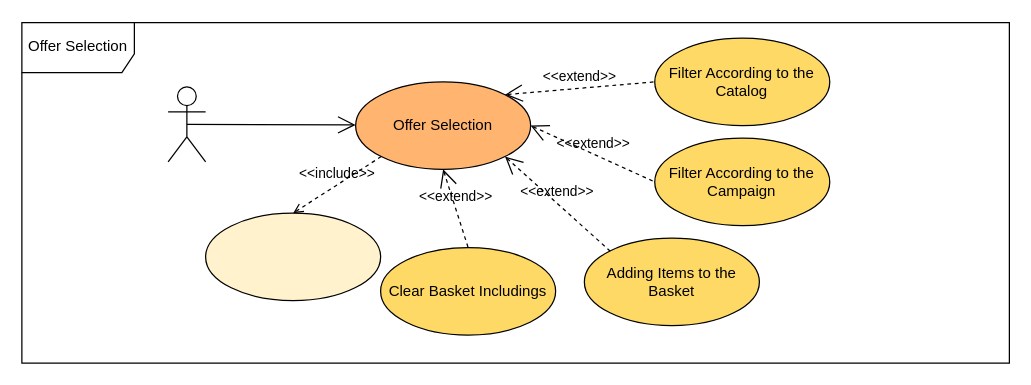
The diagram is 1031 pixels wide and 385 high, and some of its shapes have lost their labels. The shapes that lost their labels are listed below. From the top down, each one's centre as x and y in pixels, then its label:
At point 186,124: "User".
At point 292,256: "Start New Sale".
